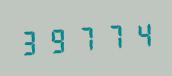four: (126, 17, 152, 51)
nine: (45, 22, 71, 56)
seven: (72, 20, 98, 55), (99, 19, 125, 53)
three: (18, 24, 44, 58)
